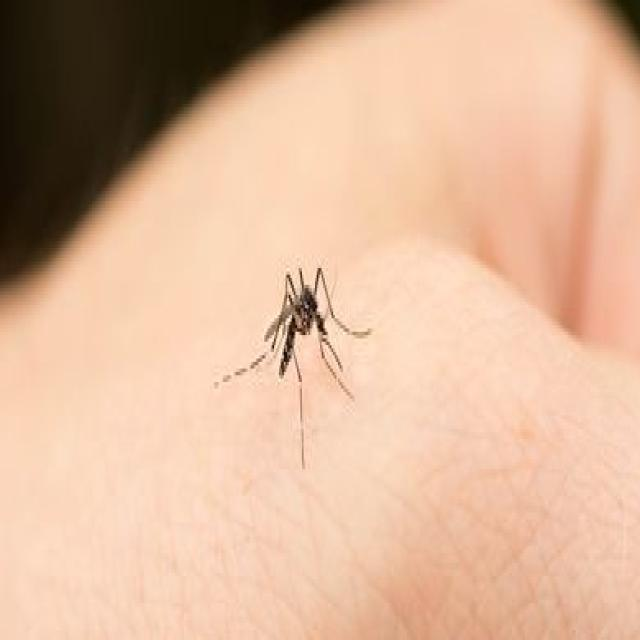Mosquito: (232, 220, 368, 466)
